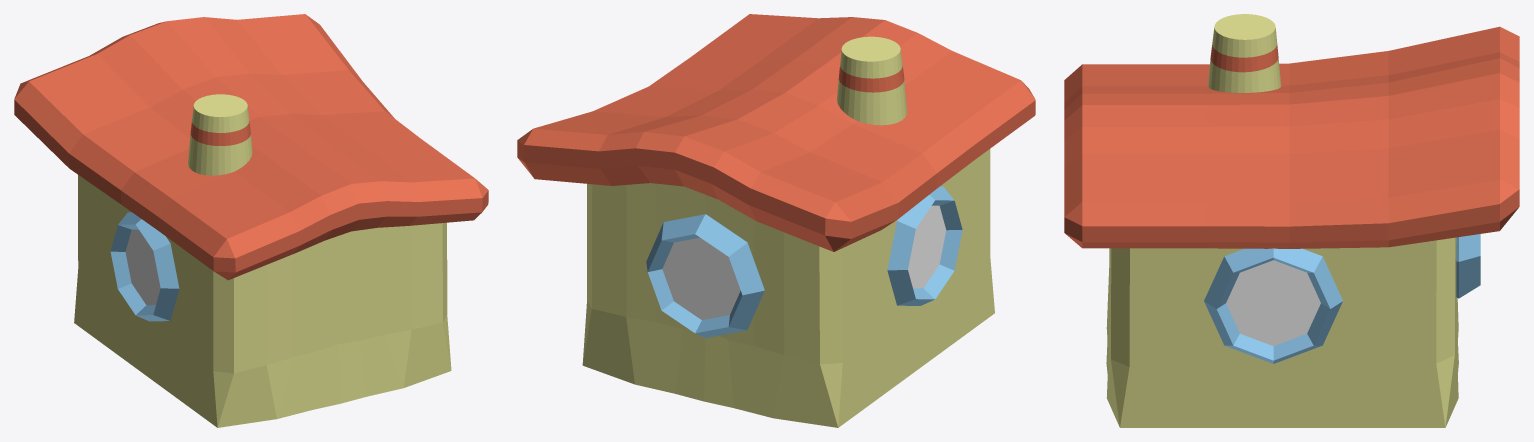
File: cabin.glb
3 views of the same model, side by side, from view 1: azimuth 30°, elevation 25°; view 2: azimuth 150°, elevation 25°; view 3: azimuth 270°, elevation 25° (orthographic). The views are drawn at different scales.
Parts seen in each view (by area): view 1: cabin-roof, cabin-walls, cabin-windows, cabin-chimney; view 2: cabin-roof, cabin-walls, cabin-windows, cabin-chimney; view 3: cabin-roof, cabin-walls, cabin-windows, cabin-chimney.
Part boxes in pixels (box(x1,y1,x2,y2)): cabin-roof: box(14, 14, 488, 280); cabin-walls: box(74, 175, 451, 427); cabin-windows: box(110, 212, 179, 321); cabin-chimney: box(188, 94, 252, 175); cabin-roof: box(517, 14, 1035, 251); cabin-walls: box(582, 149, 994, 427); cabin-windows: box(646, 186, 962, 337); cabin-chimney: box(837, 36, 906, 125); cabin-roof: box(1064, 26, 1519, 248); cabin-walls: box(1106, 237, 1458, 427); cabin-windows: box(1204, 234, 1480, 363); cabin-chimney: box(1208, 14, 1281, 92).
Bounding box in the file's own units: 4.63 × 3.88 × 5.26.
